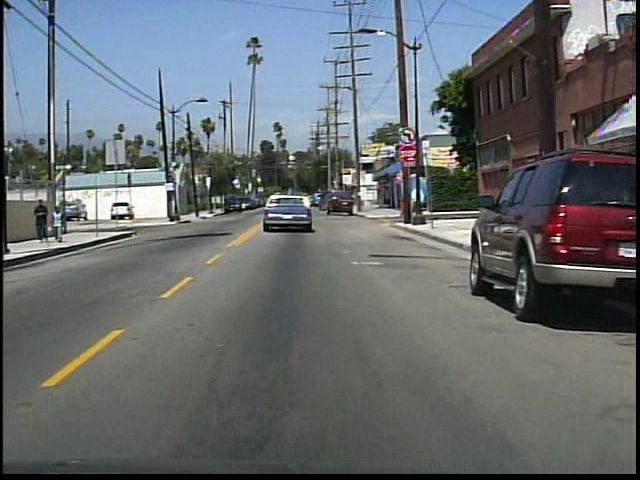person: (50, 203, 70, 244), (36, 198, 54, 243)
